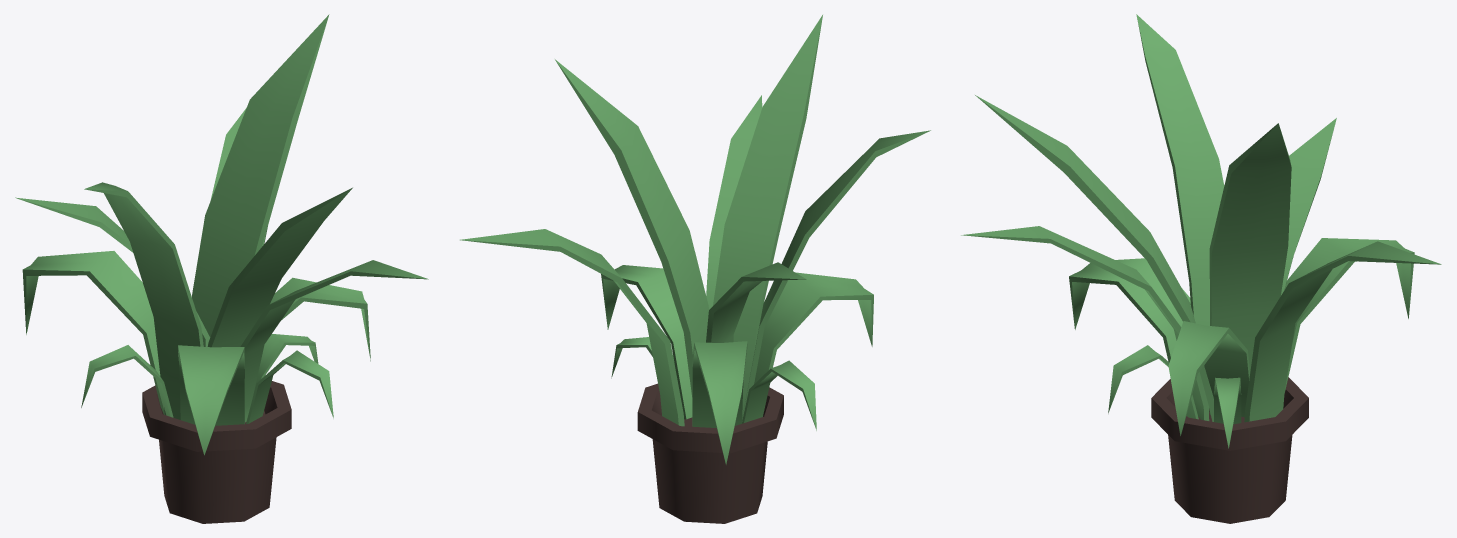
Rendered from Plant_A_V1.fbx.
The picture shows the model from 3 angles, left to right: view 1: azimuth 30°, elevation 25°; view 2: azimuth 150°, elevation 25°; view 3: azimuth 270°, elevation 25°; orthographic projection. The views are drawn at different scales.
Parts seen in each view (by area): view 1: Plant_A; view 2: Plant_A; view 3: Plant_A.
Boxes of the visible parts, bbox=[...] form: Plant_A: bbox=[15, 14, 428, 523]; Plant_A: bbox=[460, 15, 930, 523]; Plant_A: bbox=[961, 14, 1441, 523].
Size of the model in its own units: 200 by 250 by 245.
